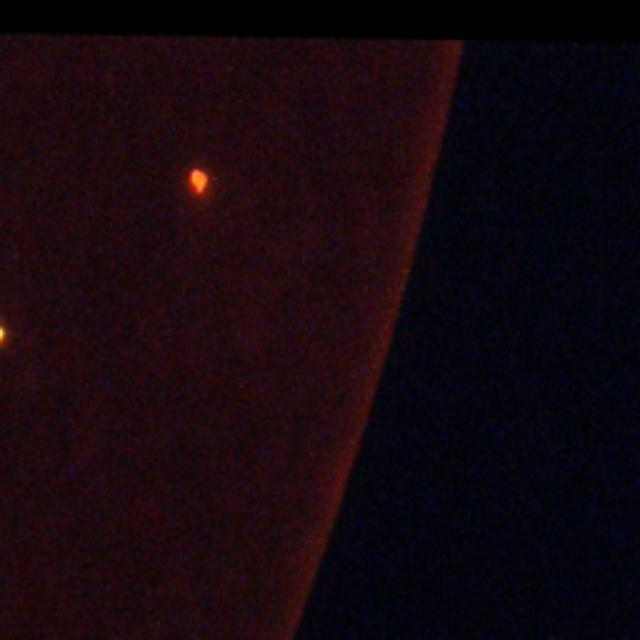Fragment: (186, 164, 214, 200), (0, 322, 10, 343)
